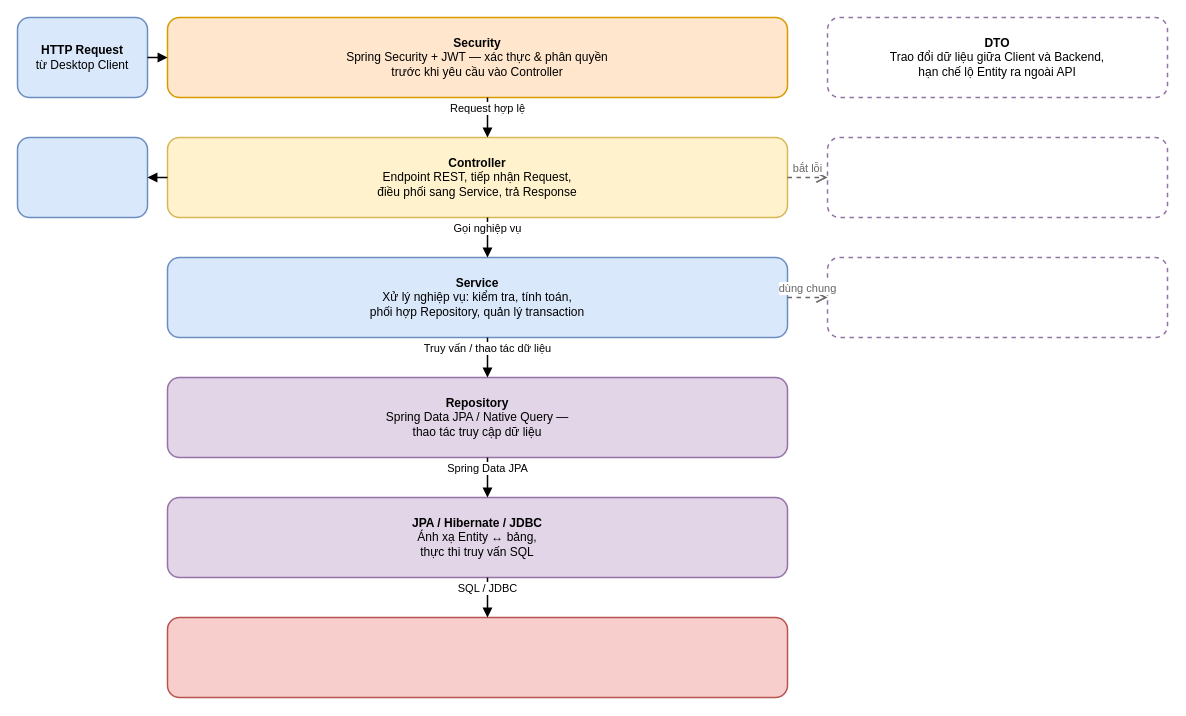
This 1186x716 diagram has some shape labels left out. The centre of each missing label's shape, as x and y in pixels:
"Common Cấu trúc Response tiêu chuẩn, tiện ích dùng chung" belongs at point 997,297.
"Exception Handler Chuyển lỗi thành cấu trúc Response thống nhất" belongs at point 997,177.
"HTTP Response về Desktop Client" belongs at point 82,177.
"PostgreSQL CSDL quan hệ — lưu trữ dữ liệu tập trung" belongs at point 477,657.
